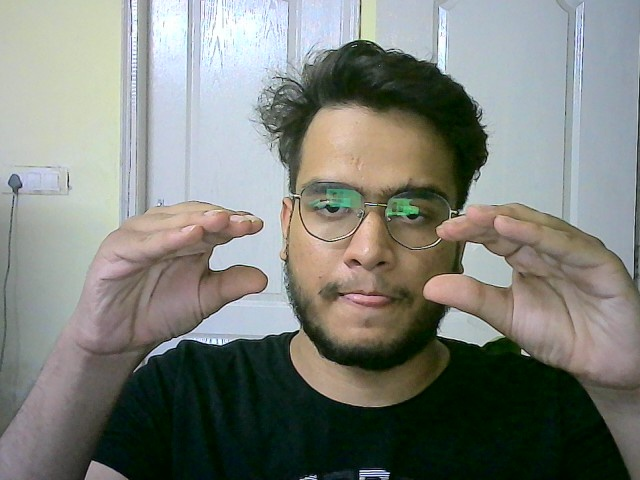No: (427, 195, 640, 380), (74, 195, 272, 353)
